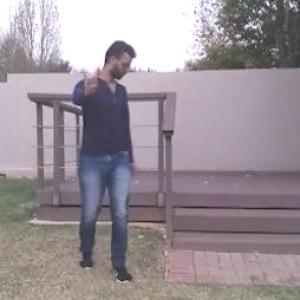takeoff-hand: (73, 57, 104, 93)
